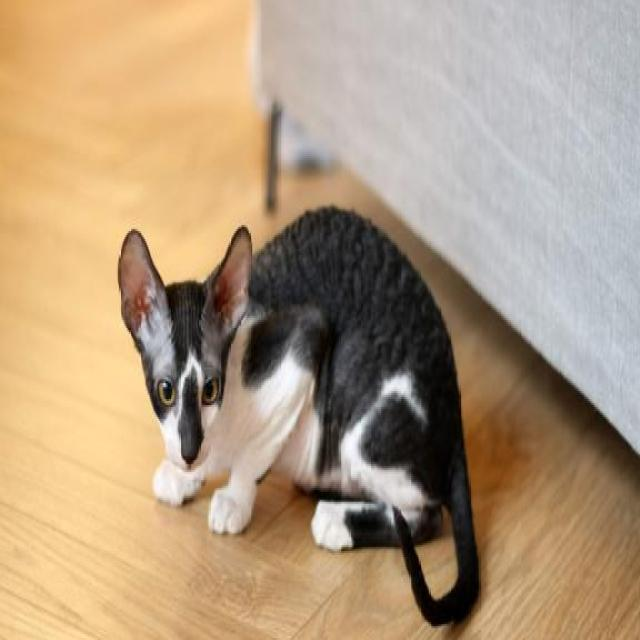Cornish Rex: (115, 198, 485, 636)
